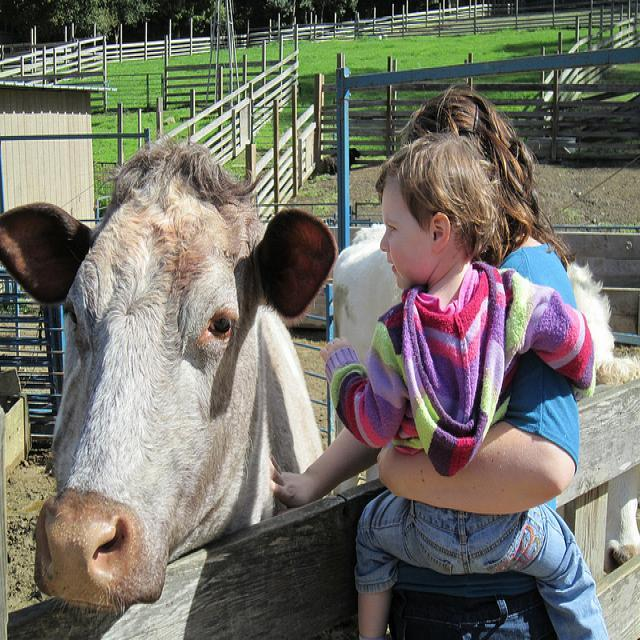cow: (9, 147, 338, 608), (329, 235, 405, 365)
